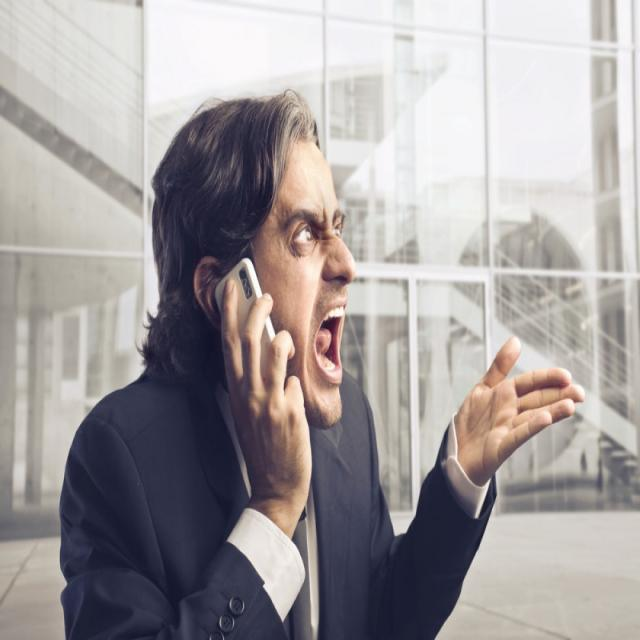phone: (194, 188, 321, 508)
